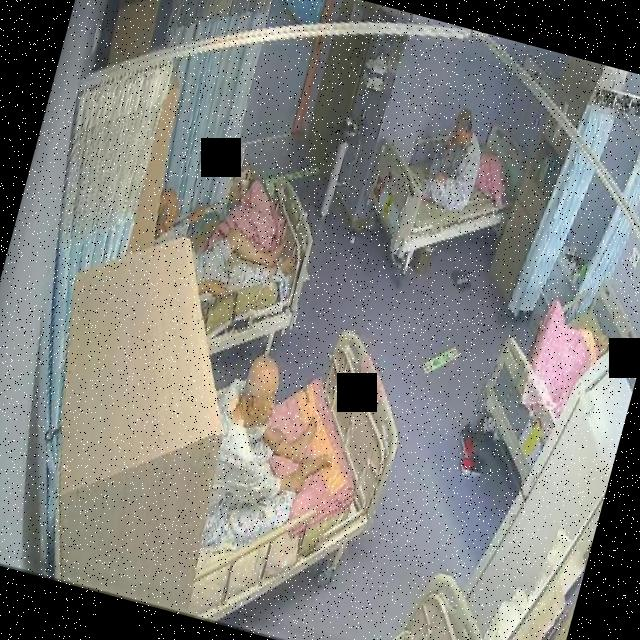bed: (153, 304, 422, 640), (460, 258, 640, 502), (150, 163, 326, 374), (356, 95, 534, 284)
patient: (175, 344, 354, 571), (134, 180, 307, 328), (417, 103, 493, 219)
sit: (174, 342, 353, 572), (135, 181, 308, 325), (418, 104, 493, 218)
